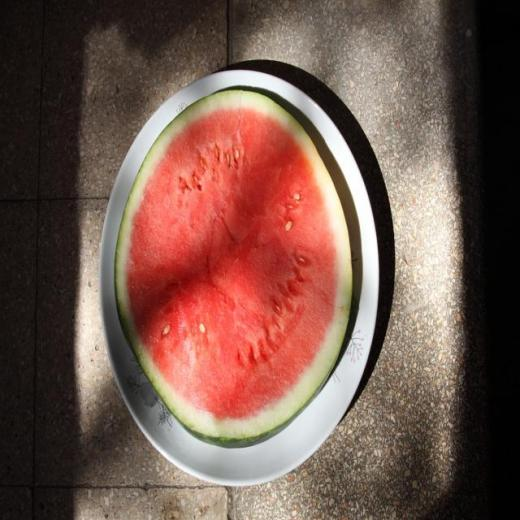Cherry: (116, 86, 354, 446)
